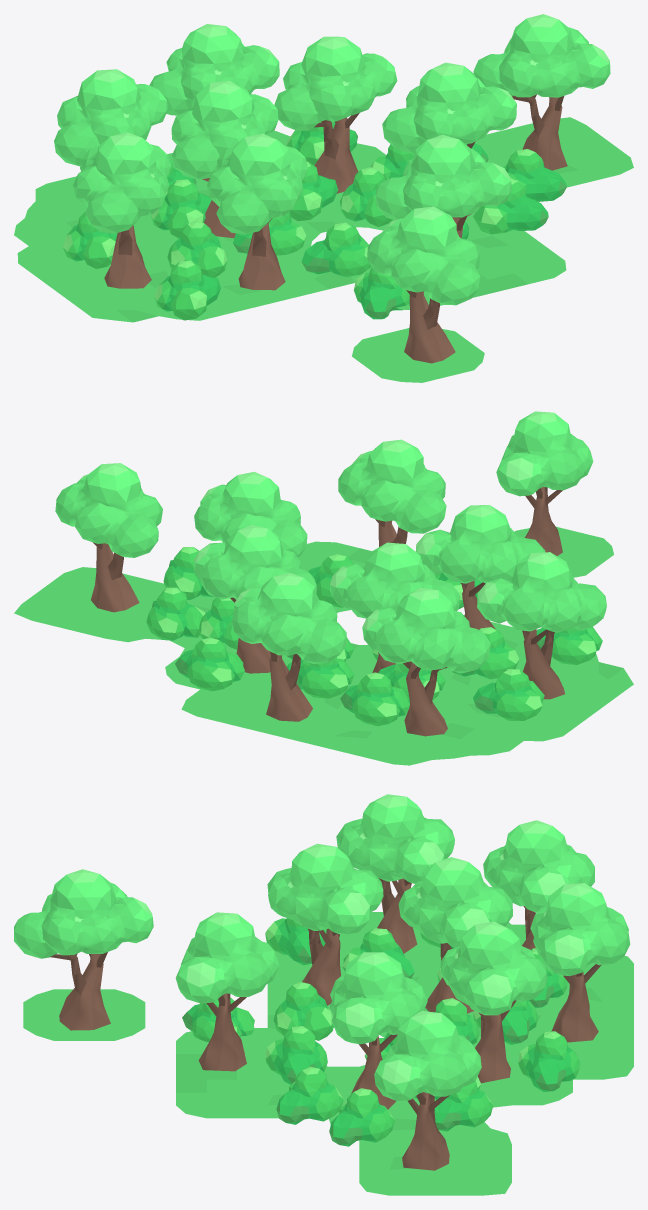
Rendered from grass.gltf.
3 renders of one model, top to bottom at view 1: azimuth 30°, elevation 25°; view 2: azimuth 150°, elevation 25°; view 3: azimuth 270°, elevation 25°, orthographic. The views are drawn at different scales.
Visible parts, largest first — view 1: forest, shadow_grass, cysts, tree; view 2: forest, shadow_grass, cysts, tree; view 3: forest, shadow_grass, cysts, tree.
Part boxes in pixels (bbox=[...]): forest: bbox=[54, 14, 610, 363]; shadow_grass: bbox=[14, 117, 633, 382]; cysts: bbox=[63, 121, 566, 320]; tree: bbox=[375, 135, 511, 238]; forest: bbox=[55, 411, 606, 736]; shadow_grass: bbox=[14, 526, 633, 765]; cysts: bbox=[146, 547, 602, 726]; tree: bbox=[338, 439, 446, 546]; forest: bbox=[14, 794, 630, 1170]; shadow_grass: bbox=[23, 912, 633, 1195]; cysts: bbox=[182, 918, 579, 1146]; tree: bbox=[175, 912, 279, 1071].
Size of the model in its own units: 20.62 by 5.36 by 19.04.
